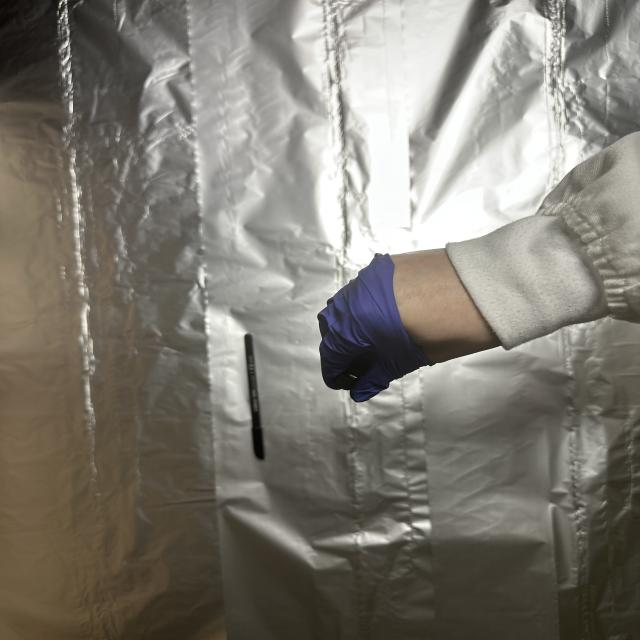glove_partial: (317, 244, 505, 404)
